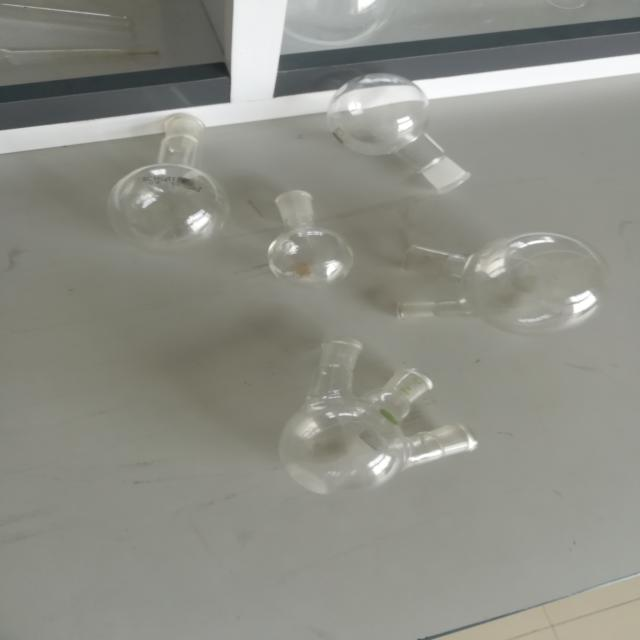Round_Bottom_Flask_Borosilicate_Glass_1_Neck: (312, 46, 509, 217), (93, 81, 247, 266), (256, 155, 373, 305)
Round_Bottom_Flask_Borosilicate_Glass_2_Neck: (368, 186, 624, 360)
Round_Bottom_Flask_Borosilicate_Glass_3_Neck: (248, 320, 488, 519)
